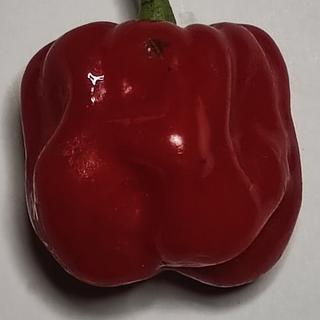Defect: (139, 31, 178, 63)
